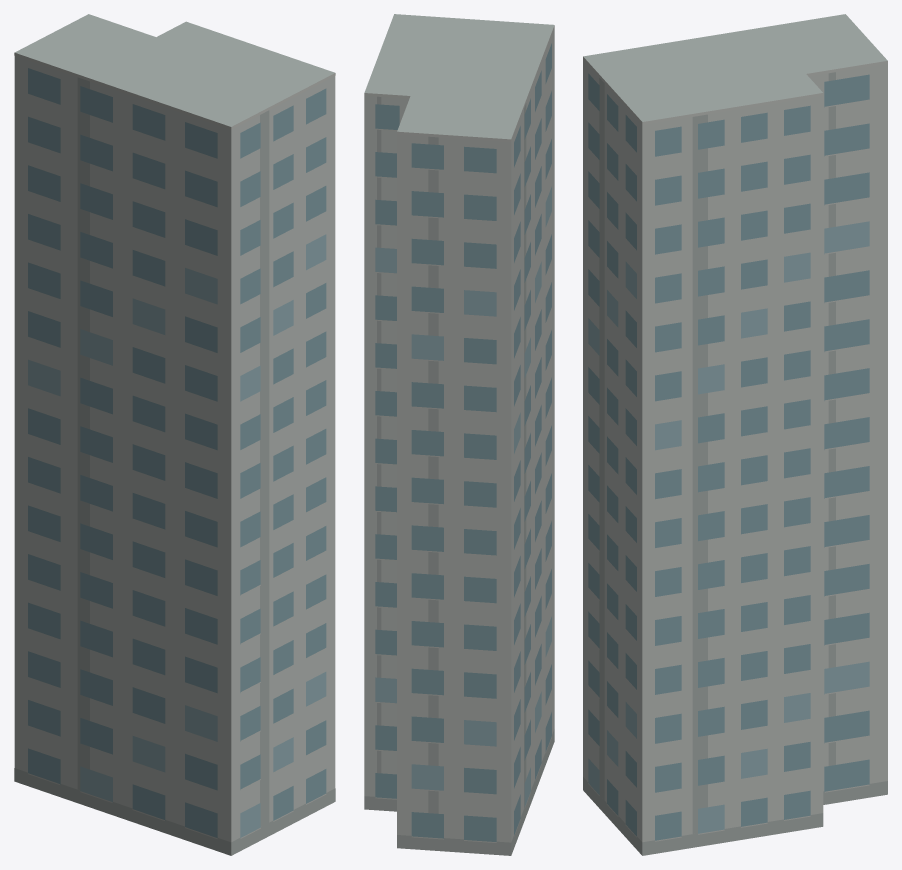
The model's file is residential-f61ad5e2-0d64-446d-8694-5eb2a3970693.glb.
The picture shows the model from 3 angles, left to right: view 1: azimuth 30°, elevation 25°; view 2: azimuth 150°, elevation 25°; view 3: azimuth 270°, elevation 25°; orthographic projection. The views are drawn at different scales.
Parts seen in each view (by area): view 1: residential-f61ad5e2-0d64-446d-8694-5eb2a3970693.tmp; view 2: residential-f61ad5e2-0d64-446d-8694-5eb2a3970693.tmp; view 3: residential-f61ad5e2-0d64-446d-8694-5eb2a3970693.tmp.
Part boxes in pixels (<box>): residential-f61ad5e2-0d64-446d-8694-5eb2a3970693.tmp: <box>14,14,335,855</box>; residential-f61ad5e2-0d64-446d-8694-5eb2a3970693.tmp: <box>364,14,554,855</box>; residential-f61ad5e2-0d64-446d-8694-5eb2a3970693.tmp: <box>583,14,887,855</box>.
Bounding box in the file's own units: 18.96 × 60 × 22.6.
